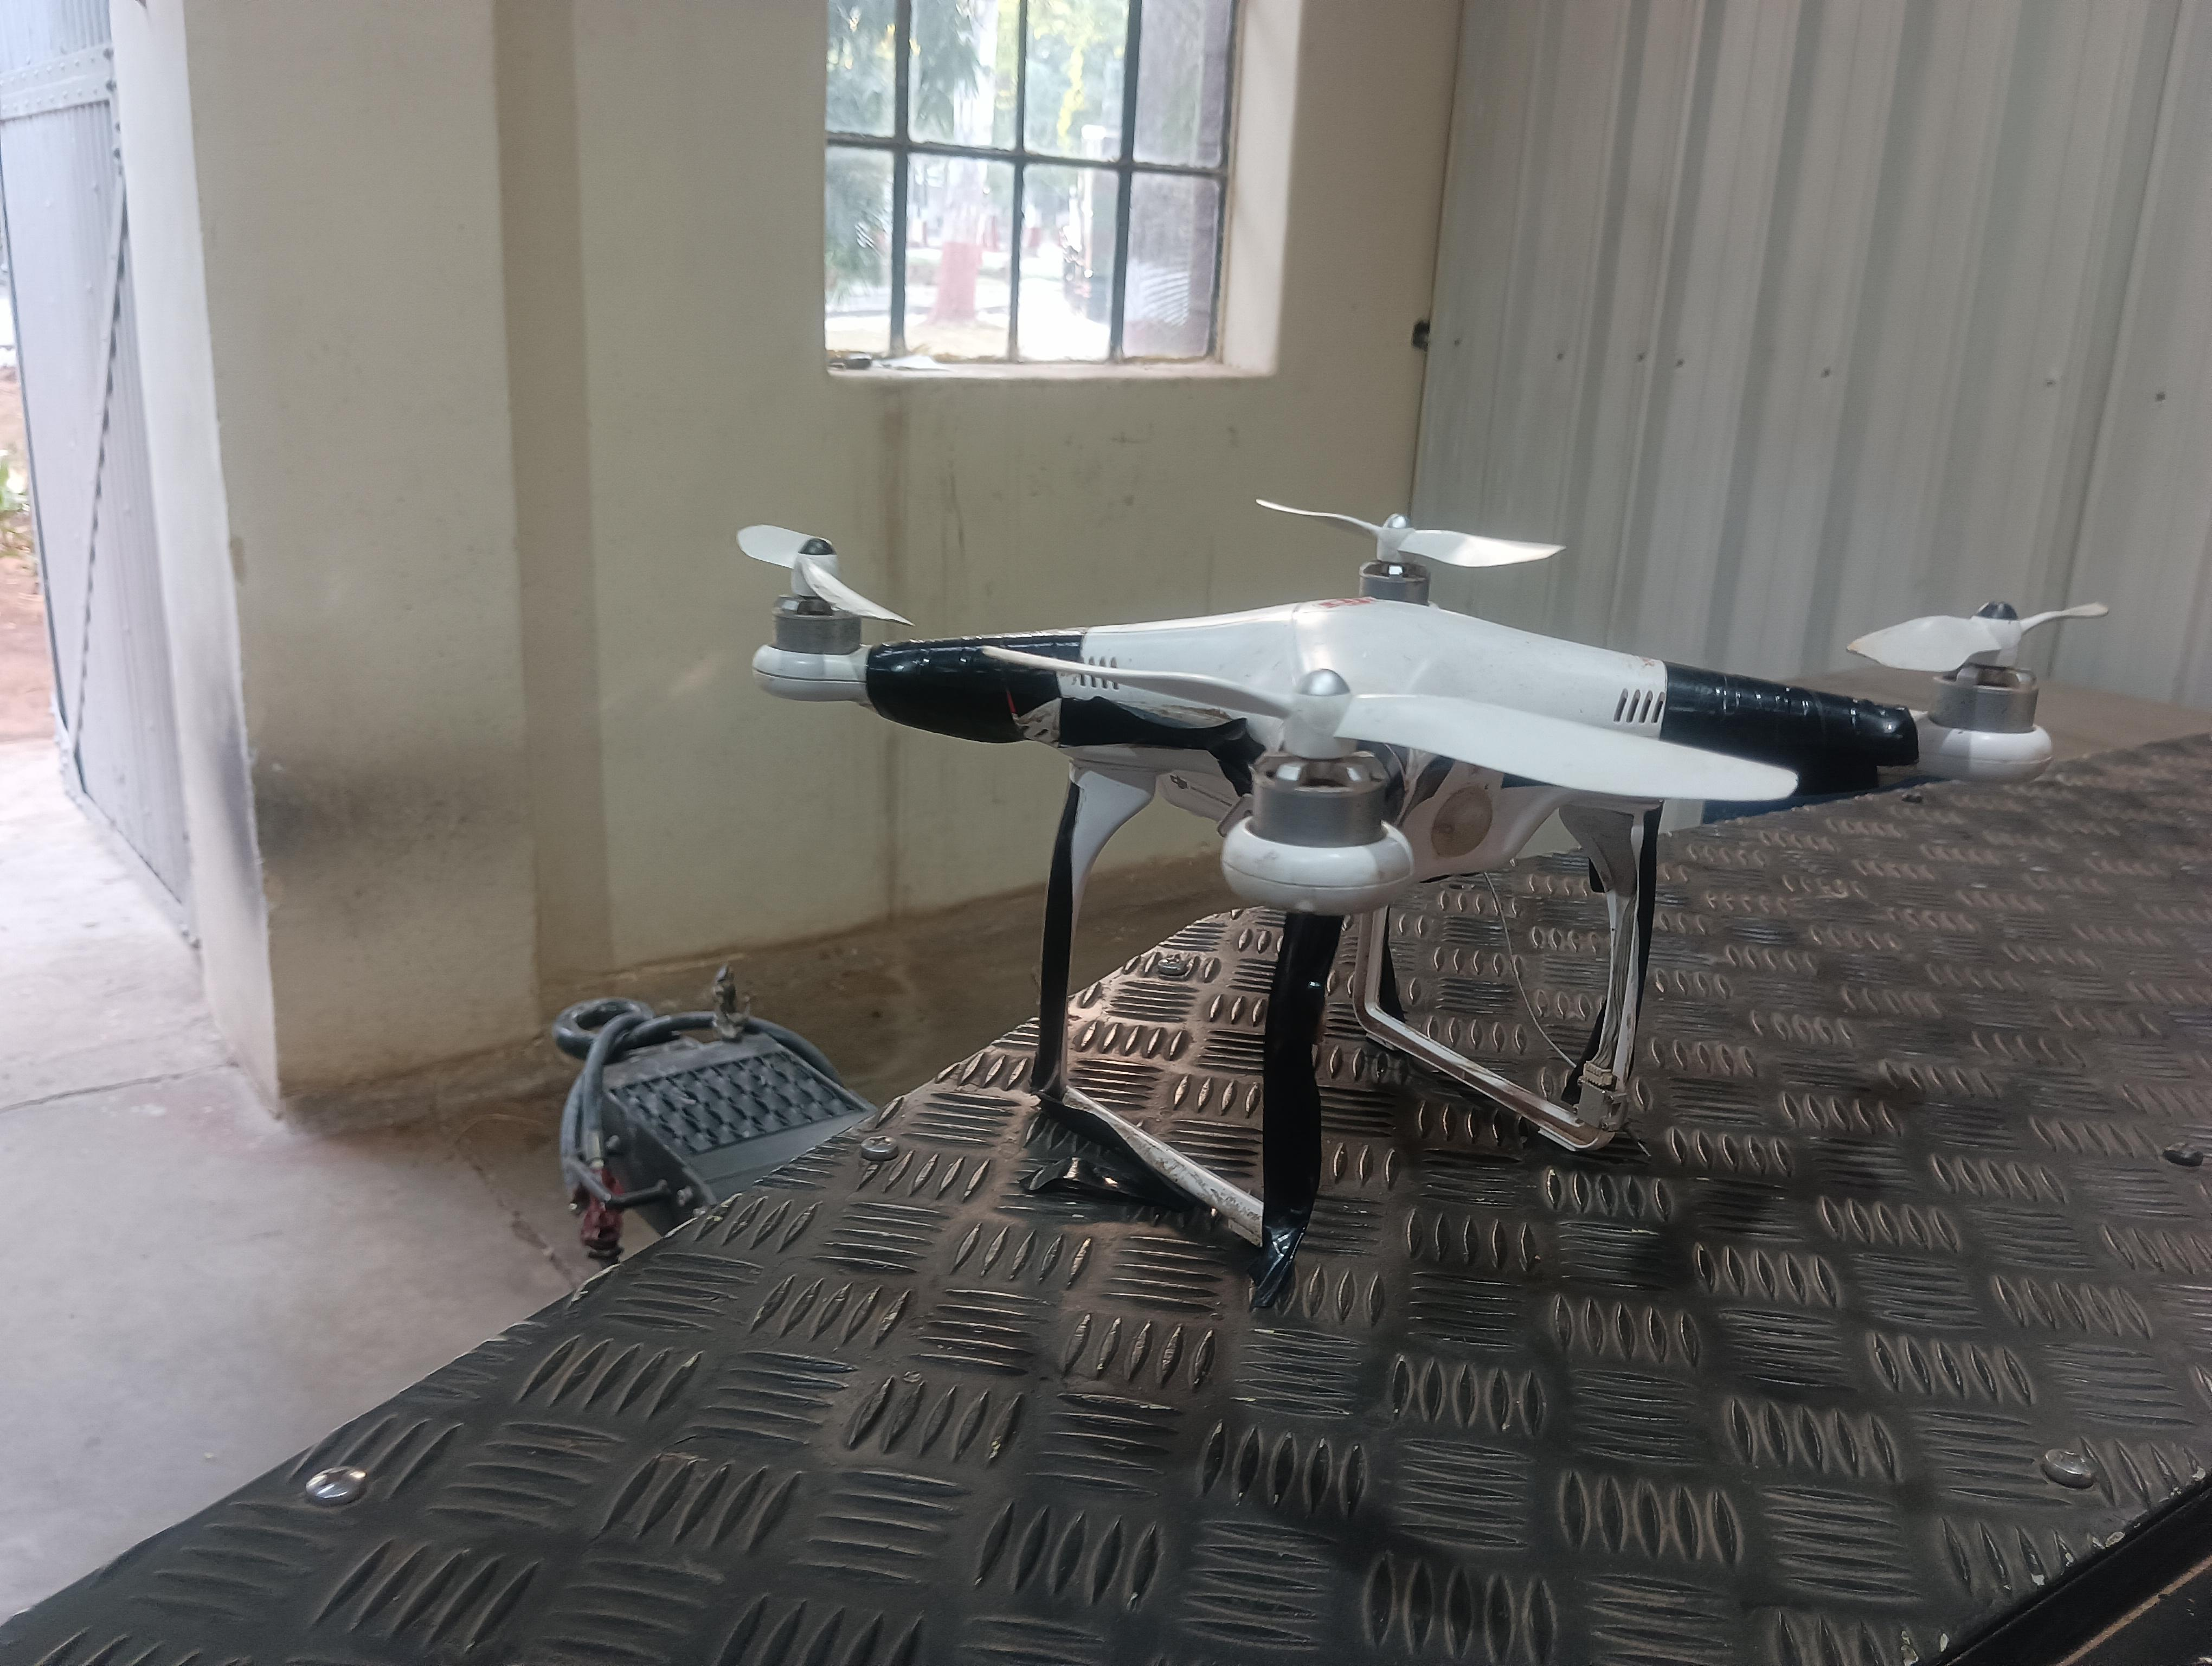drone: (652, 397, 2140, 1337)
